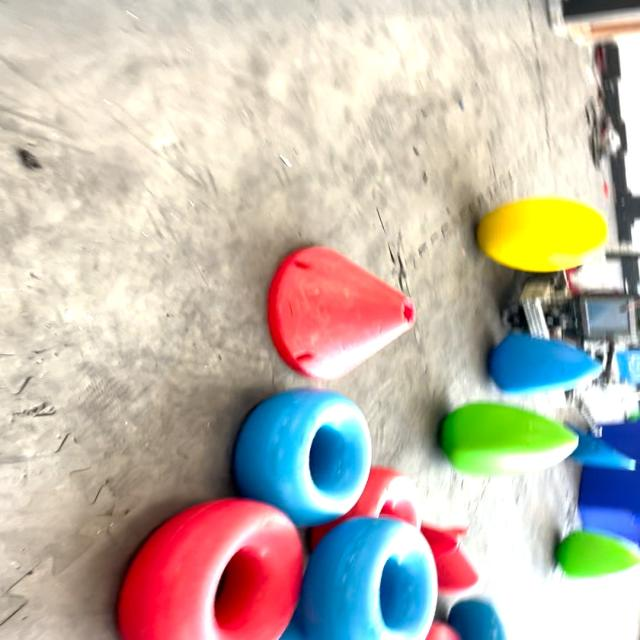Blue-Ring: (233, 389, 371, 526), (282, 518, 438, 639)
Red-Ring: (118, 498, 302, 639)
